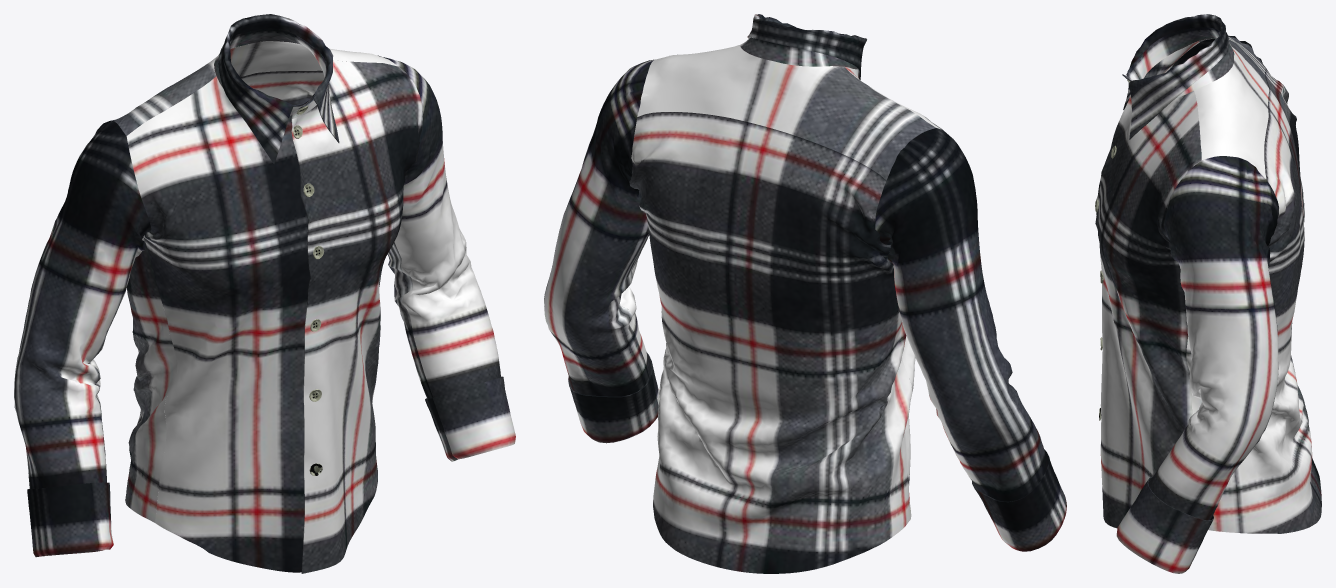
Rendered from Shirt2.glb.
3 renders of one model, left to right at view 1: azimuth 30°, elevation 25°; view 2: azimuth 150°, elevation 25°; view 3: azimuth 270°, elevation 25°, orthographic. The views are drawn at different scales.
Parts seen in each view (by area): view 1: Shirt01_Shirt00_1:Pattern2D_7660, Shirt00_1:Pattern2D_4228_Shirt01_Shirt00_1:Material4782_EY22, Shirt01_Shirt00_1:Pattern2D_22590, Shirt01_Shirt00_1:Pattern2D_12616, Shirt01_Shirt00_1:Pattern2D_7658, Shirt01_Shirt00_1:Pattern2D_22589, Shirt01_Shirt00_1:Pattern2D_22591, Shirt01_Shirt00_1:Pattern2D_14923, Shirt01_Shirt00_1:Pattern2D_7659, Shirt01_Shirt00_1:Pattern2D_21425; view 2: Shirt01_Shirt00_1:Pattern2D_7658, Shirt01_Shirt00_1:Pattern2D_22590, Shirt01_Shirt00_1:Pattern2D_12616, Shirt01_Shirt00_1:Pattern2D_7659, Shirt01_Shirt00_1:Pattern2D_22591, Shirt01_Shirt00_1:Pattern2D_14923, Shirt01_Shirt00_1:Pattern2D_22589, Shirt01_Shirt00_1:Pattern2D_21425, Shirt01_Shirt00_1:Pattern2D_7660; view 3: Shirt00_1:Pattern2D_4228_Shirt01_Shirt00_1:Material4782_EY22, Shirt01_Shirt00_1:Pattern2D_12616, Shirt01_Shirt00_1:Pattern2D_7658, Shirt01_Shirt00_1:Pattern2D_7659, Shirt01_Shirt00_1:Pattern2D_14923, Shirt01_Shirt00_1:Pattern2D_22589, Shirt01_Shirt00_1:Pattern2D_21425, Shirt01_Shirt00_1:Pattern2D_7660, Shirt01_Shirt00_1:Pattern2D_22590.
Boxes of the visible parts, x1=… form: Shirt01_Shirt00_1:Pattern2D_7660: x1=126, y1=76, x2=310, y2=572; Shirt00_1:Pattern2D_4228_Shirt01_Shirt00_1:Material4782_EY22: x1=291, y1=60, x2=422, y2=573; Shirt01_Shirt00_1:Pattern2D_22590: x1=14, y1=121, x2=151, y2=553; Shirt01_Shirt00_1:Pattern2D_12616: x1=378, y1=55, x2=500, y2=399; Shirt01_Shirt00_1:Pattern2D_7658: x1=125, y1=70, x2=324, y2=522; Shirt01_Shirt00_1:Pattern2D_22589: x1=218, y1=14, x2=339, y2=163; Shirt01_Shirt00_1:Pattern2D_22591: x1=27, y1=482, x2=113, y2=557; Shirt01_Shirt00_1:Pattern2D_14923: x1=425, y1=376, x2=515, y2=461; Shirt01_Shirt00_1:Pattern2D_7659: x1=110, y1=41, x2=397, y2=135; Shirt01_Shirt00_1:Pattern2D_21425: x1=214, y1=28, x2=327, y2=118; Shirt01_Shirt00_1:Pattern2D_7658: x1=629, y1=112, x2=912, y2=573; Shirt01_Shirt00_1:Pattern2D_22590: x1=875, y1=128, x2=1048, y2=501; Shirt01_Shirt00_1:Pattern2D_12616: x1=544, y1=59, x2=655, y2=396; Shirt01_Shirt00_1:Pattern2D_7659: x1=637, y1=44, x2=935, y2=180; Shirt01_Shirt00_1:Pattern2D_22591: x1=972, y1=449, x2=1066, y2=551; Shirt01_Shirt00_1:Pattern2D_14923: x1=568, y1=352, x2=659, y2=443; Shirt01_Shirt00_1:Pattern2D_22589: x1=747, y1=14, x2=866, y2=79; Shirt01_Shirt00_1:Pattern2D_21425: x1=740, y1=37, x2=858, y2=69; Shirt01_Shirt00_1:Pattern2D_7660: x1=845, y1=67, x2=943, y2=520; Shirt00_1:Pattern2D_4228_Shirt01_Shirt00_1:Material4782_EY22: x1=1095, y1=91, x2=1201, y2=528; Shirt01_Shirt00_1:Pattern2D_12616: x1=1148, y1=156, x2=1278, y2=520; Shirt01_Shirt00_1:Pattern2D_7658: x1=1186, y1=68, x2=1321, y2=533; Shirt01_Shirt00_1:Pattern2D_7659: x1=1194, y1=36, x2=1269, y2=178; Shirt01_Shirt00_1:Pattern2D_14923: x1=1116, y1=476, x2=1213, y2=573; Shirt01_Shirt00_1:Pattern2D_22589: x1=1123, y1=14, x2=1228, y2=139; Shirt01_Shirt00_1:Pattern2D_21425: x1=1122, y1=27, x2=1234, y2=98; Shirt01_Shirt00_1:Pattern2D_7660: x1=1098, y1=41, x2=1199, y2=193; Shirt01_Shirt00_1:Pattern2D_22590: x1=1170, y1=35, x2=1262, y2=68.
Size of the model in its own units: 0.1435 by 0.1486 by 0.0626.
4 materials, 4 textured.
